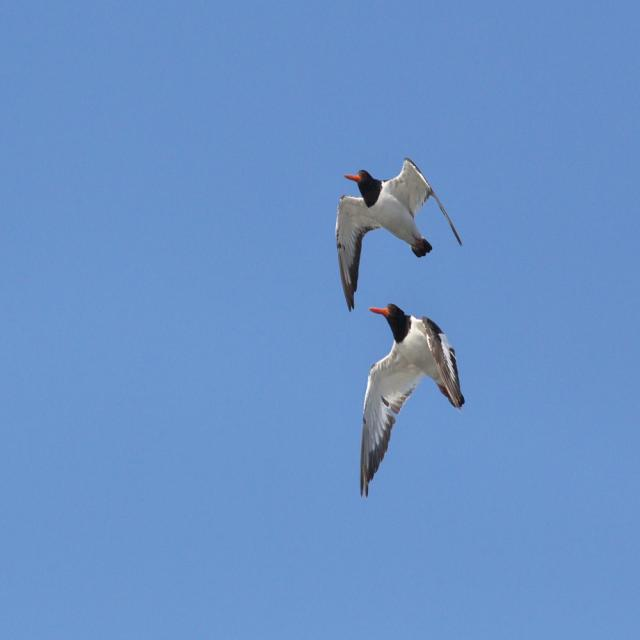bird: (326, 156, 469, 316), (355, 309, 462, 506)
